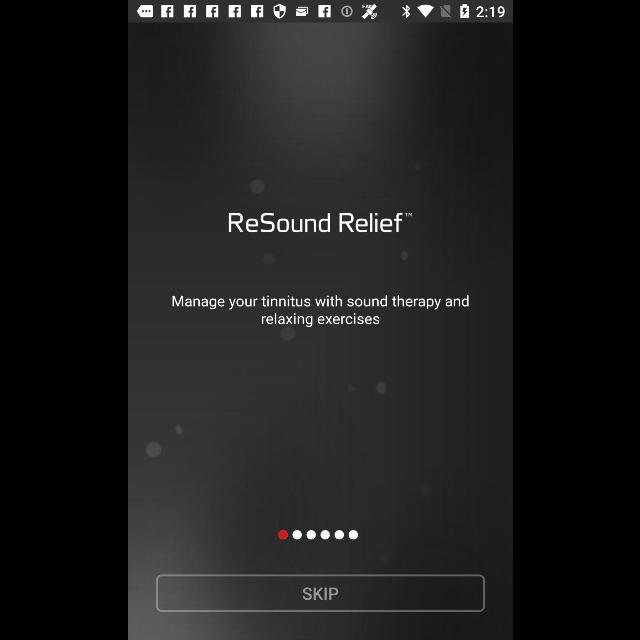pageindicator: (276, 530, 358, 540)
text: (172, 295, 468, 327), (228, 212, 412, 234)
textbutton: (156, 574, 484, 612)
uppertaskbar: (128, 1, 512, 23)
